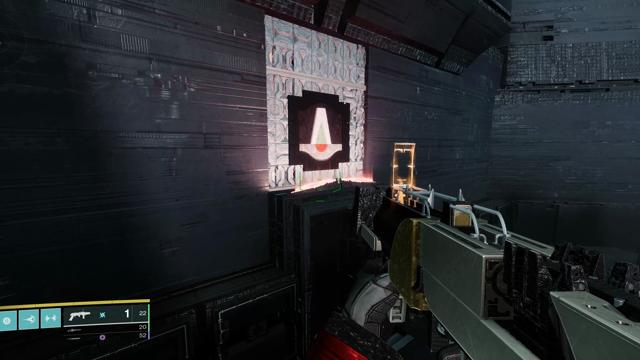enter: (299, 104, 342, 161)
